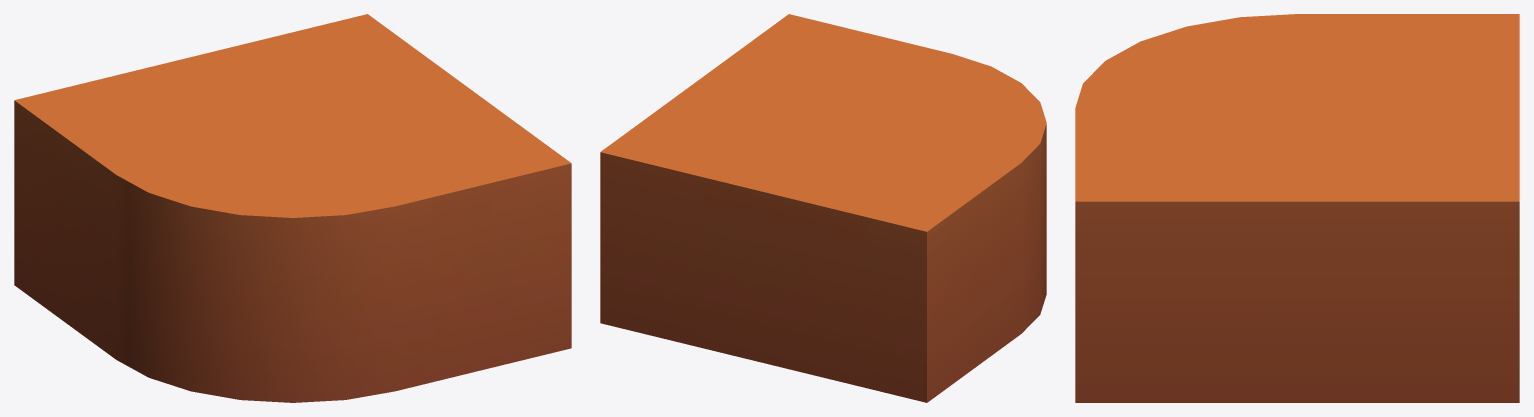
The model's file is terrain_low_curved.glb.
3 renders of one model, left to right at view 1: azimuth 30°, elevation 25°; view 2: azimuth 150°, elevation 25°; view 3: azimuth 270°, elevation 25°, orthographic. The views are drawn at different scales.
Visible parts, largest first — view 1: terrain_low_curved_Cube.15120; view 2: terrain_low_curved_Cube.15120; view 3: terrain_low_curved_Cube.15120.
Boxes of the visible parts, left/top/right/bottom form: terrain_low_curved_Cube.15120: left=14, top=14, right=571, bottom=402; terrain_low_curved_Cube.15120: left=600, top=14, right=1046, bottom=402; terrain_low_curved_Cube.15120: left=1075, top=14, right=1519, bottom=402.
Size of the model in its own units: 2 by 1 by 2.
1 material, 1 textured.
